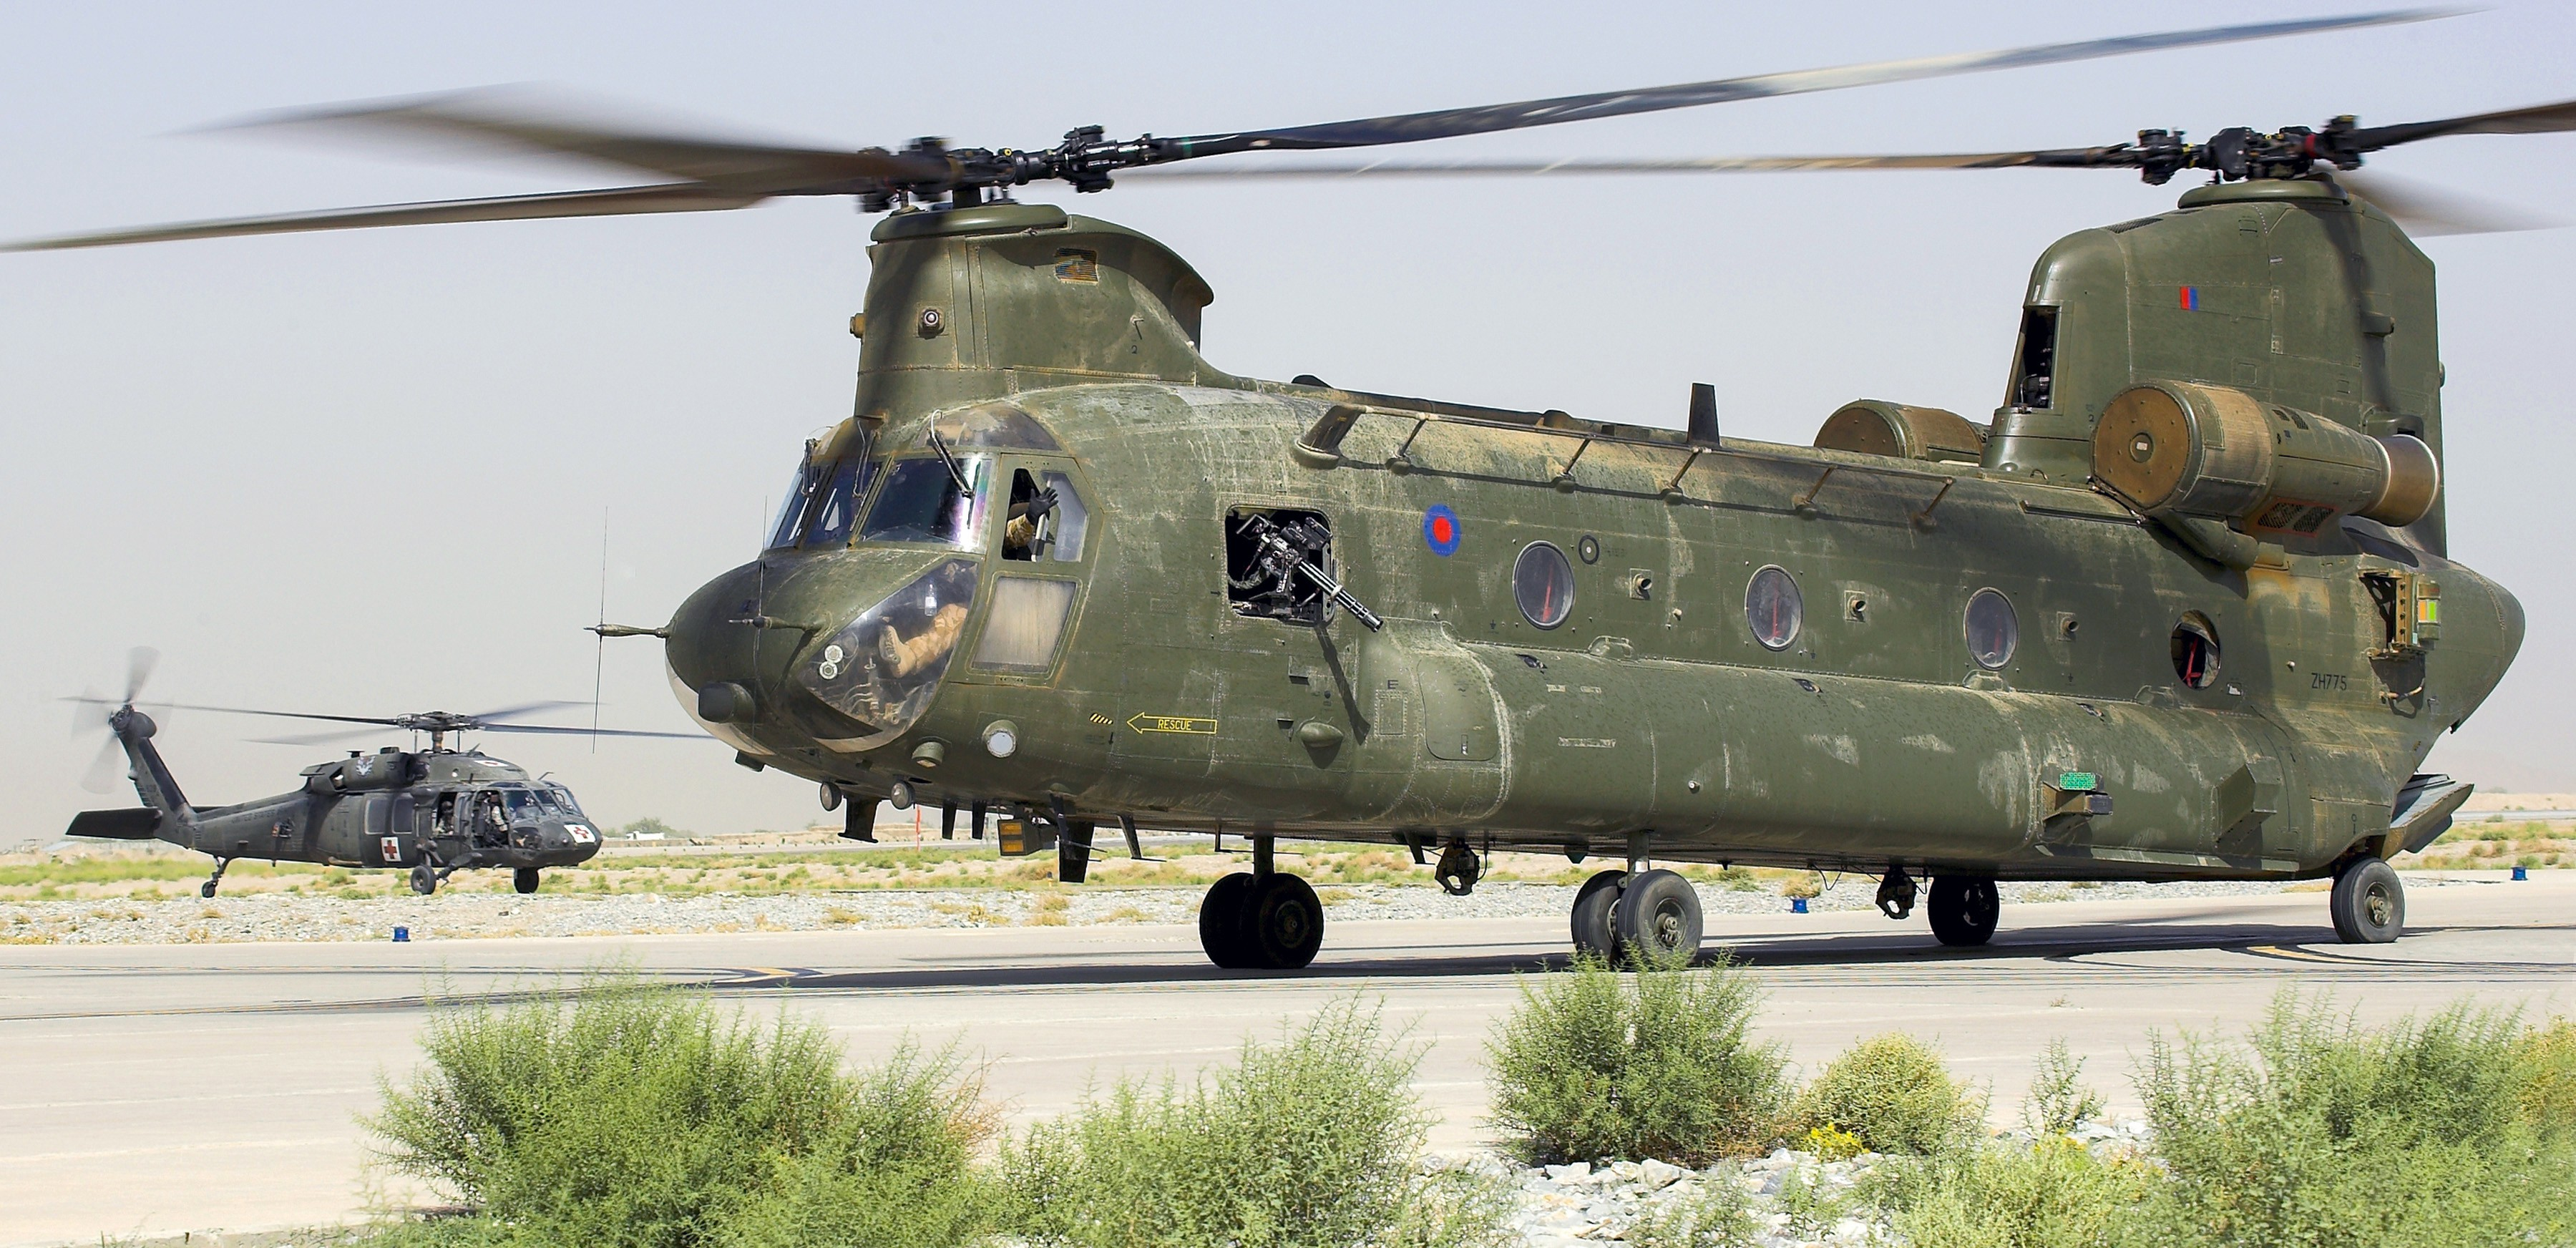black hawk: (66, 657, 609, 923)
chinook: (619, 85, 2537, 987)
